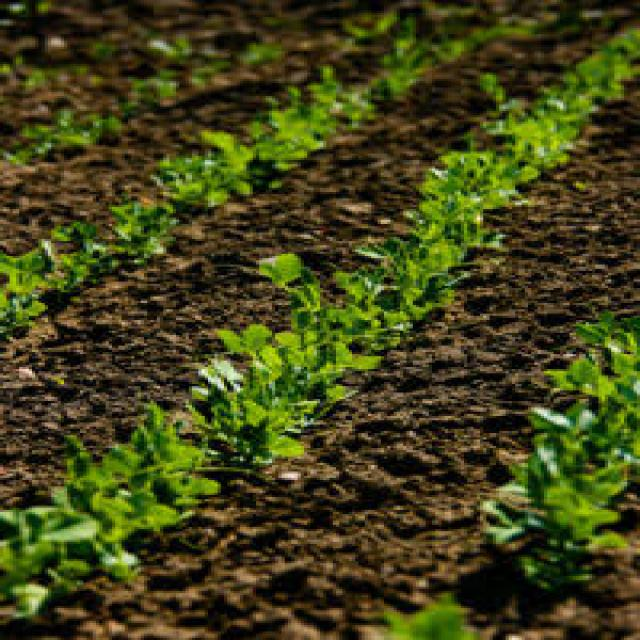suelo_humedo: (122, 49, 586, 601)
